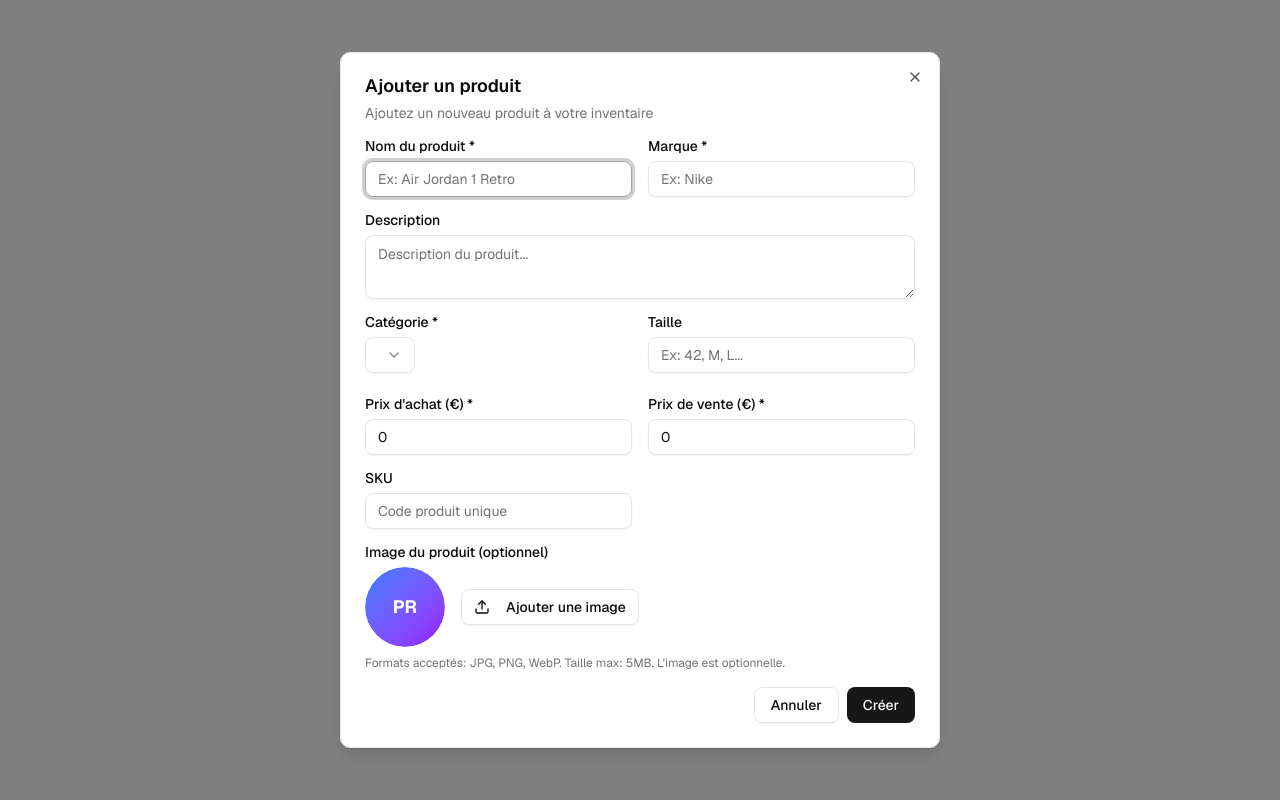
Test: ProductForm › validates required fields
Click the button "Créer": (881, 705) [847,687,915,723]
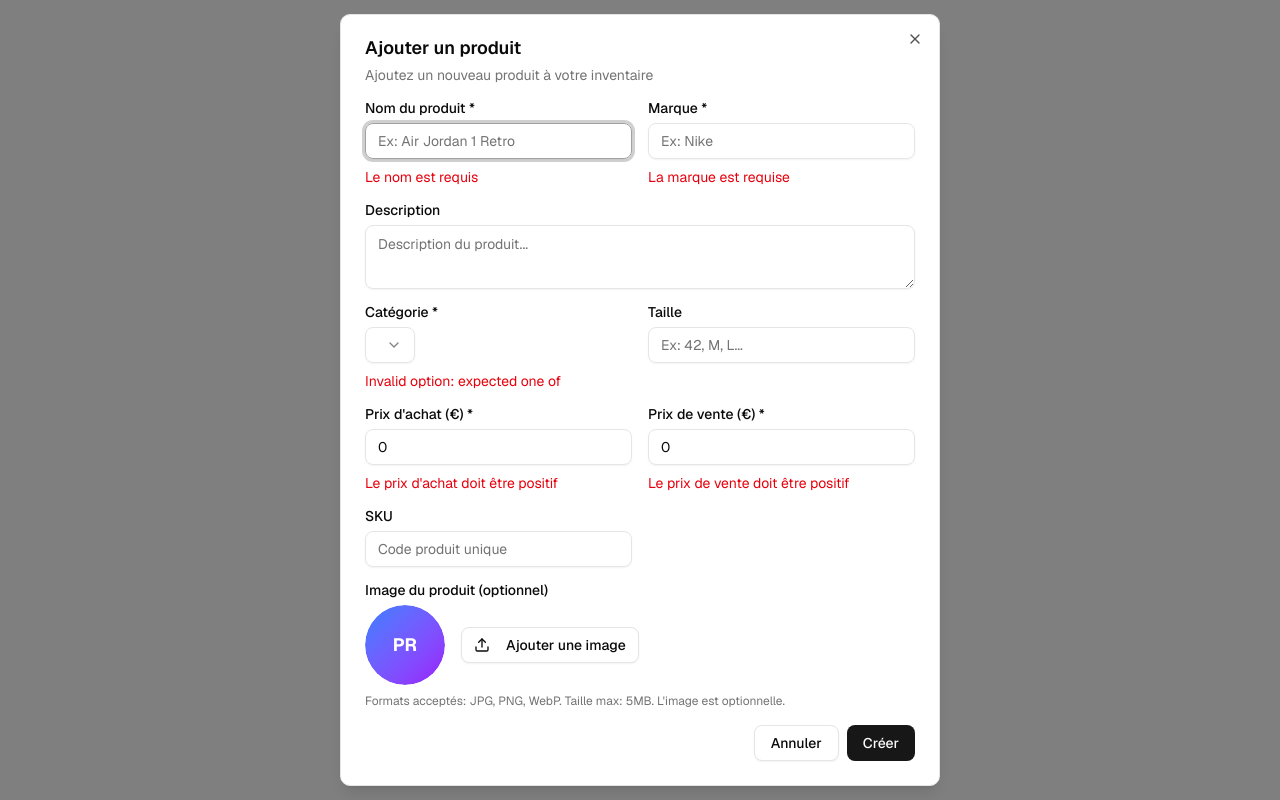
expect the text "Le nom est requis" is shown: met, box [365,168,478,186]
expect the text "La marque est requise" is shown: met, box [648,168,790,186]
